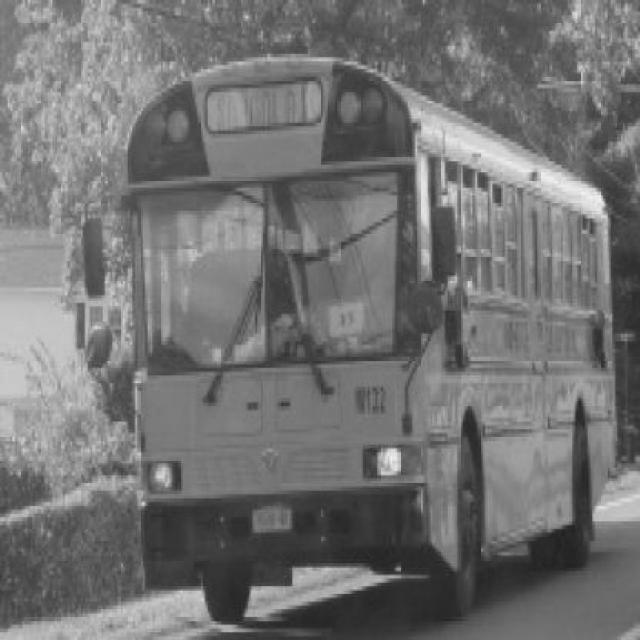Bus: (82, 57, 618, 626)
